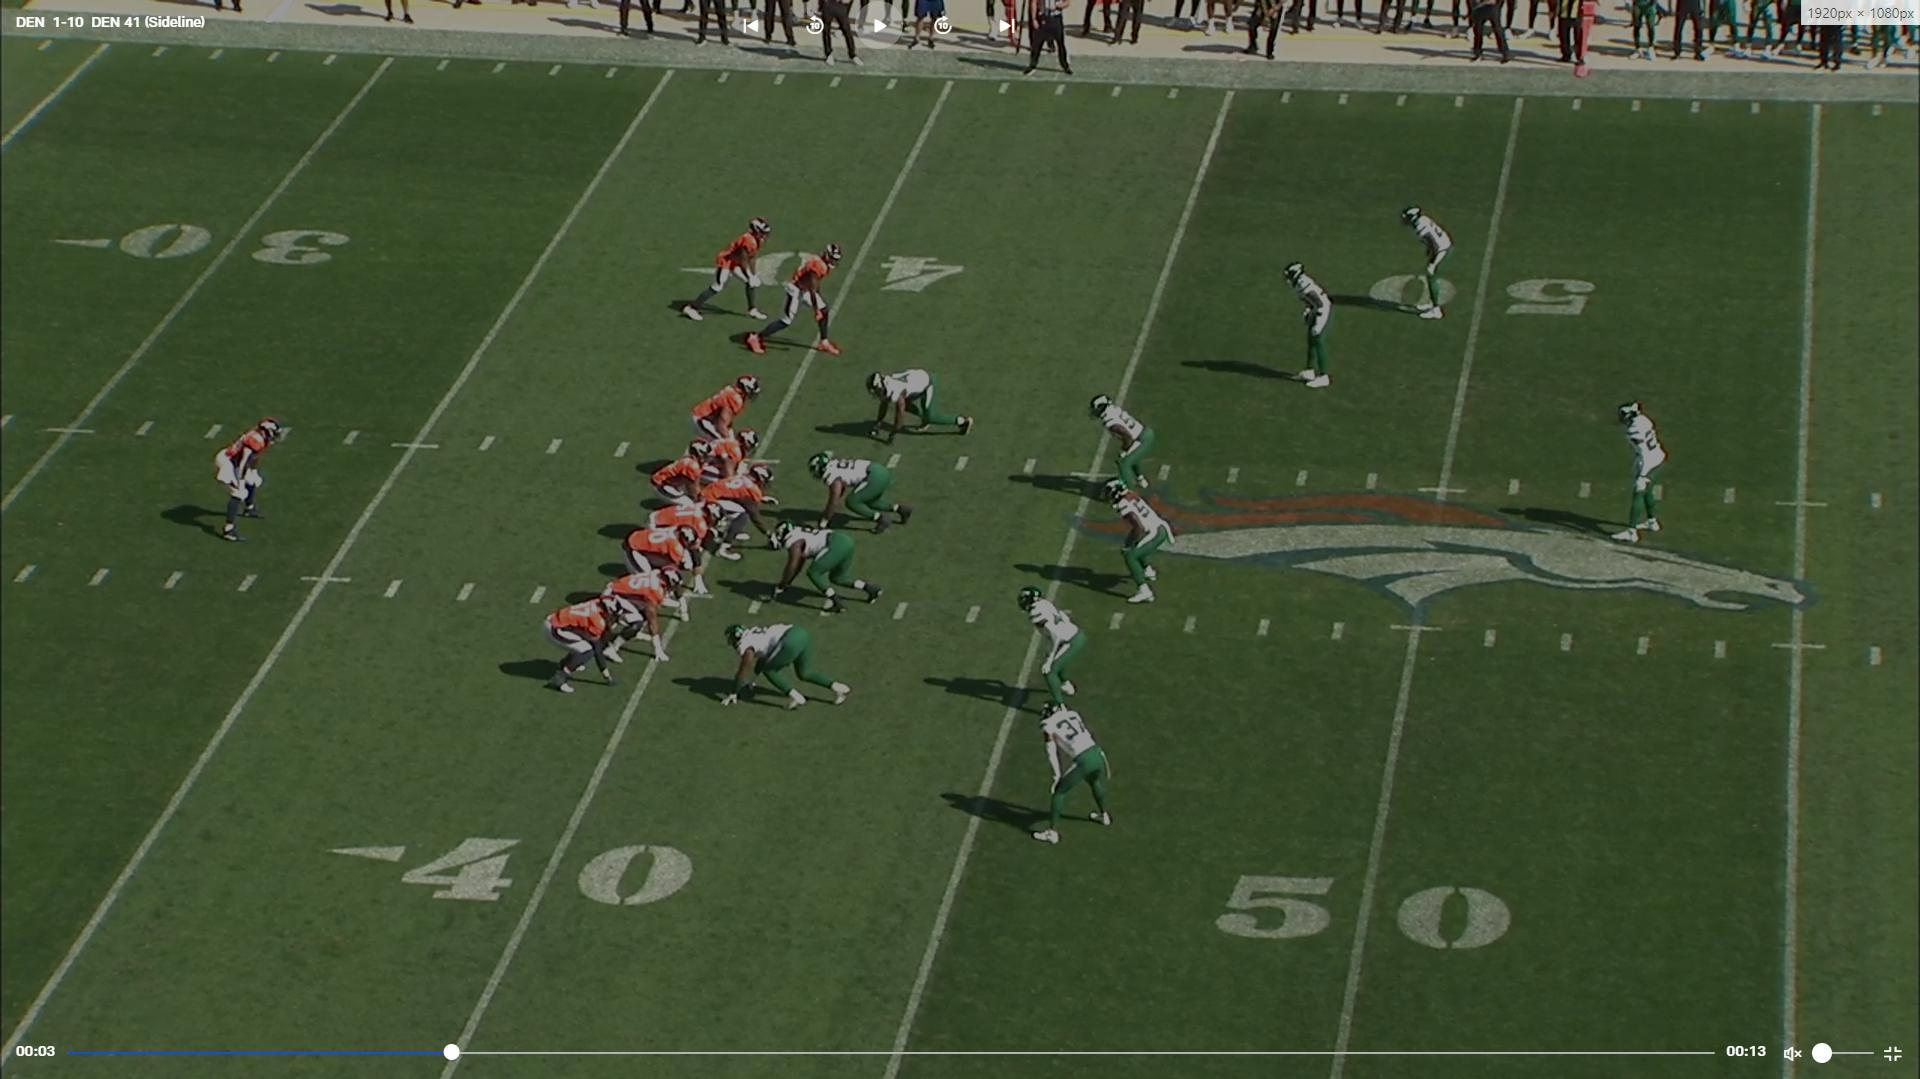defense: (1026, 696, 1118, 852), (724, 616, 862, 712), (769, 521, 887, 620), (1014, 584, 1087, 714), (808, 450, 915, 536), (1615, 402, 1677, 550), (1101, 476, 1170, 608), (861, 365, 972, 446), (1085, 389, 1155, 507), (1282, 259, 1340, 396), (1406, 203, 1464, 327)
oline: (617, 521, 702, 623), (644, 499, 728, 598), (698, 460, 778, 558), (692, 372, 765, 442), (691, 430, 765, 483)
qb: (644, 445, 713, 509)
ref: (1021, 0, 1083, 84)
skill: (757, 240, 852, 363), (210, 410, 286, 546), (688, 215, 779, 328), (545, 587, 634, 700), (597, 563, 686, 665)
